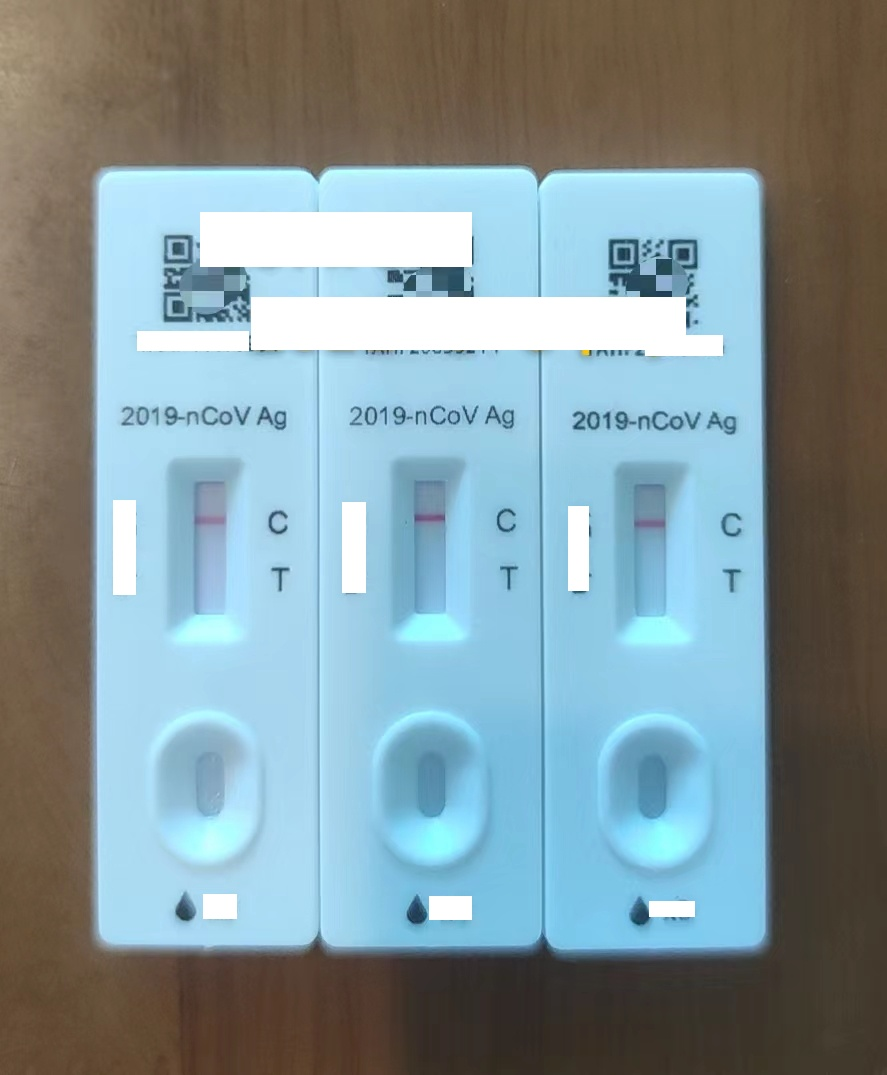negative: (387, 451, 465, 649), (167, 455, 246, 641), (615, 458, 689, 646)
